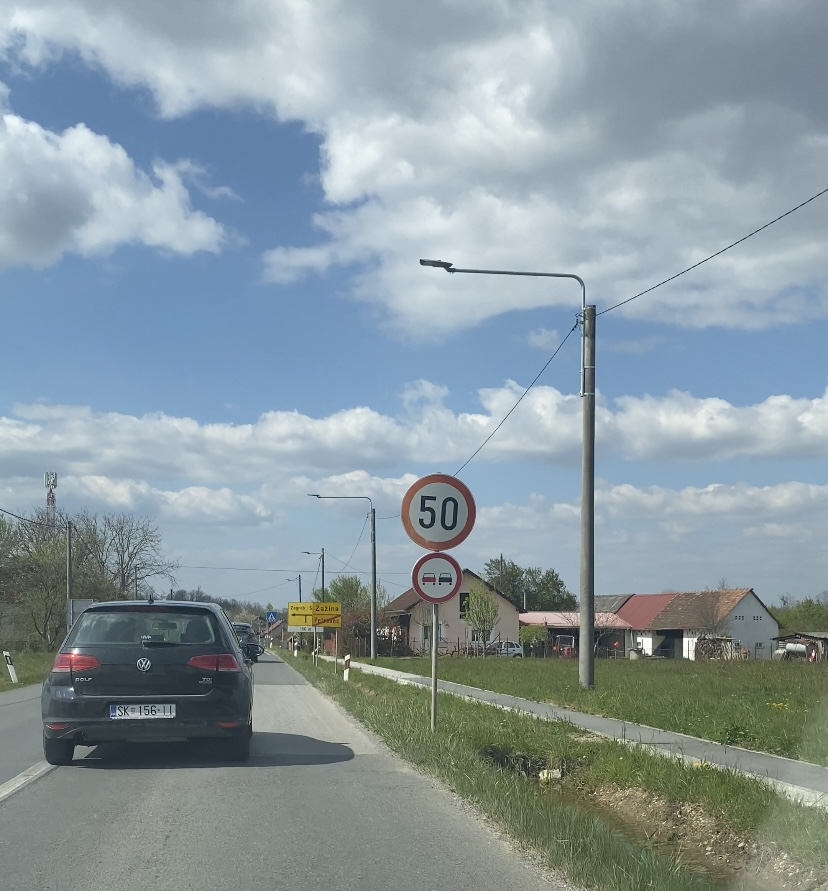Ograničenje brzine 50: (402, 474, 476, 551)
Pješački prijelaz: (266, 612, 277, 622)
Zabrana pretjecanja: (411, 552, 463, 604)
